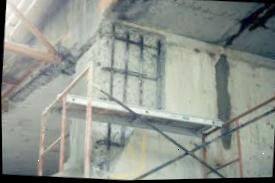exposed_rebar: (101, 23, 163, 108), (96, 123, 124, 171), (142, 46, 157, 76)
spalling: (99, 22, 163, 108), (10, 45, 75, 101), (92, 123, 133, 177), (214, 53, 231, 121), (221, 124, 231, 149)
